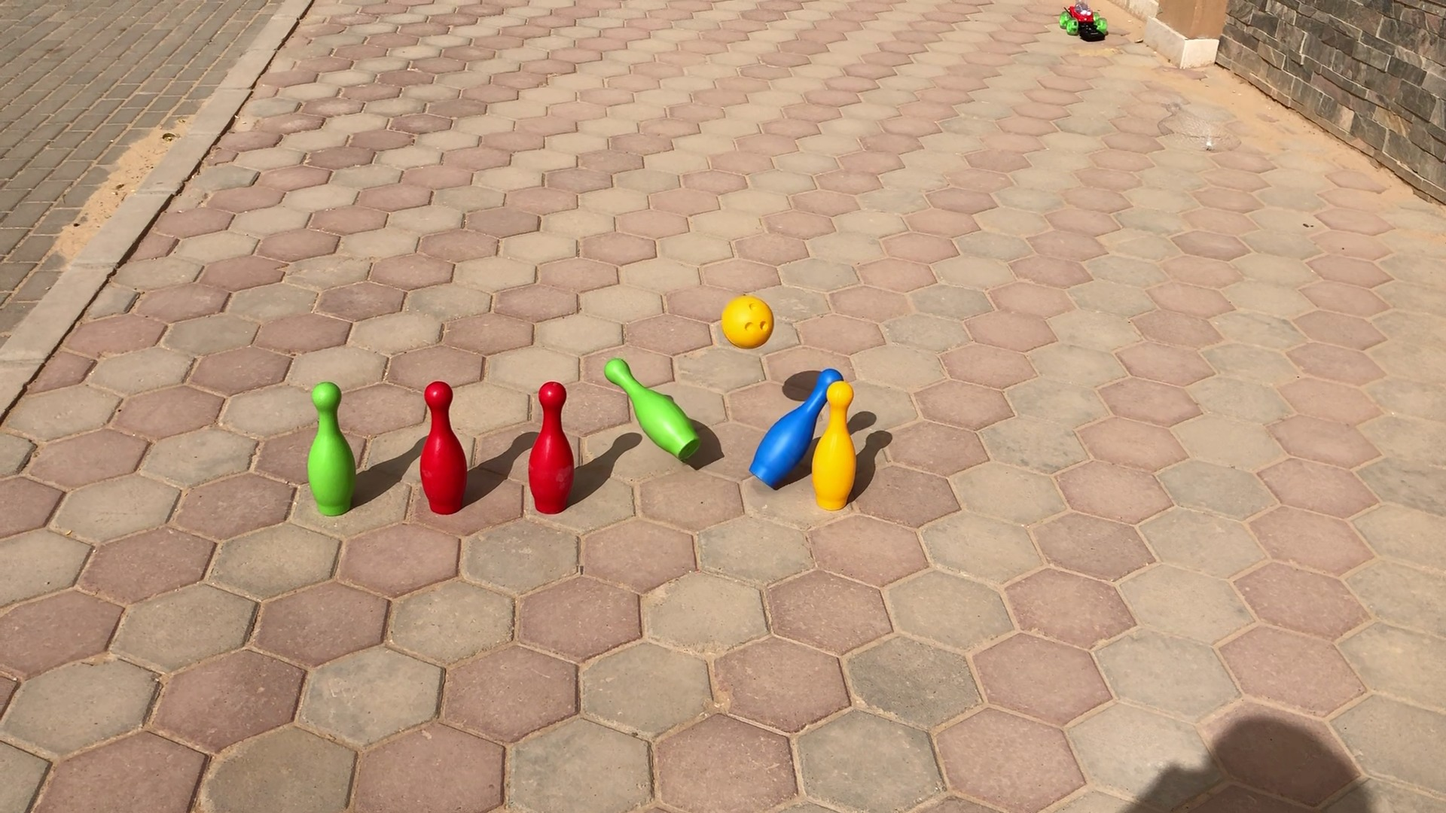pin: (752, 368, 832, 488), (612, 359, 700, 451), (416, 380, 468, 513), (811, 380, 861, 518), (307, 382, 357, 514), (527, 382, 573, 515)
